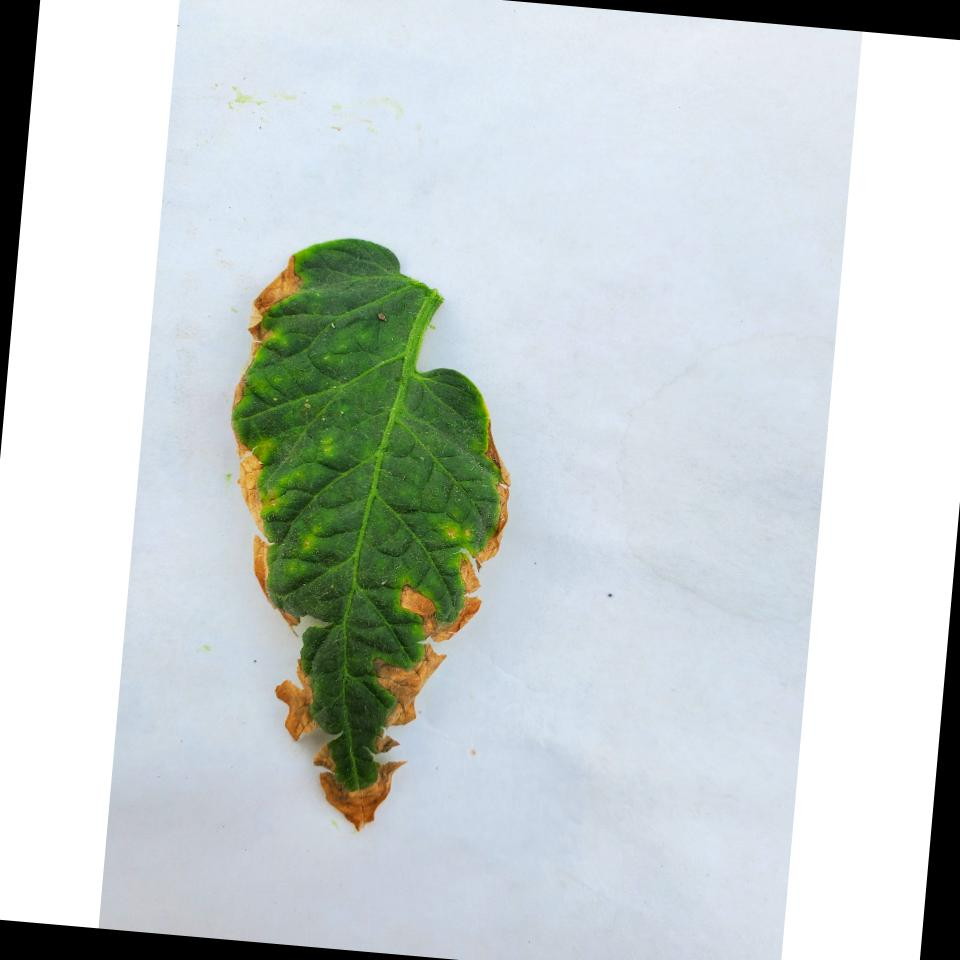tomato_bacterial_blight: (200, 223, 536, 846)
